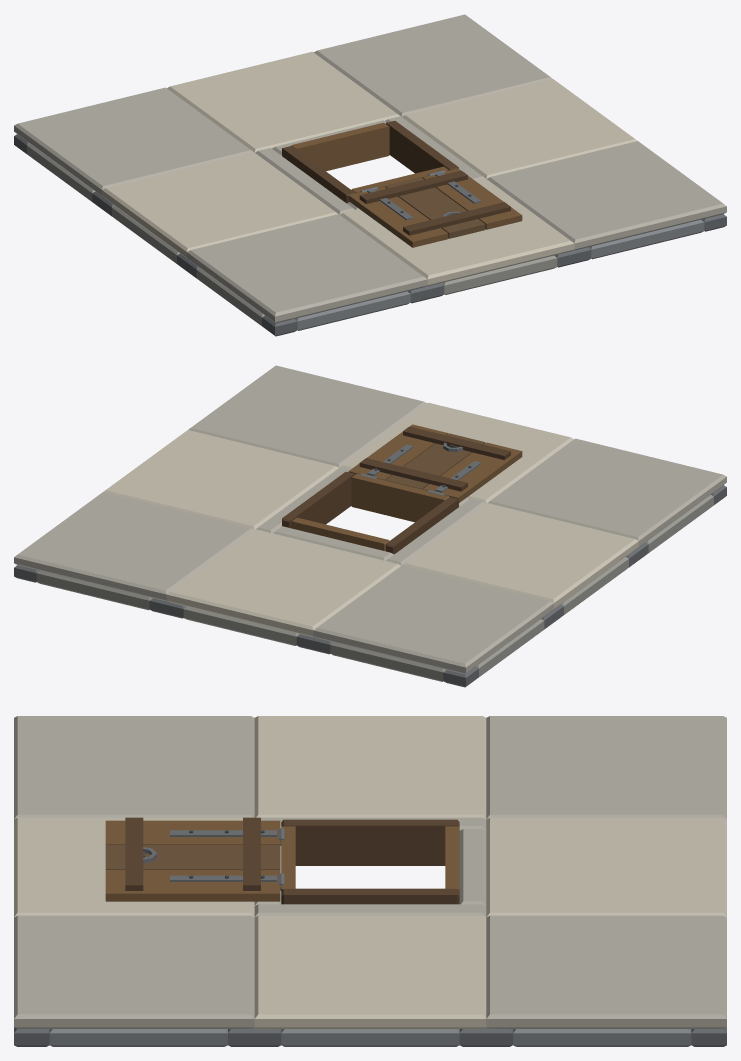
Rendered from SM_LPD_Struct_CeilHatch_01.fbx.
3 views of the same model, one above another, from view 1: azimuth 30°, elevation 25°; view 2: azimuth 150°, elevation 25°; view 3: azimuth 270°, elevation 25° (orthographic). The views are drawn at different scales.
Parts seen in each view (by area): view 1: SM_LPD_Struct_CeilHatch_01; view 2: SM_LPD_Struct_CeilHatch_01; view 3: SM_LPD_Struct_CeilHatch_01.
Part boxes in pixels (x1,y1,x2,y2): SM_LPD_Struct_CeilHatch_01: (14, 14, 726, 336); SM_LPD_Struct_CeilHatch_01: (14, 365, 726, 687); SM_LPD_Struct_CeilHatch_01: (14, 716, 726, 1046).
Size of the model in its own units: 4 by 0.285 by 4.
